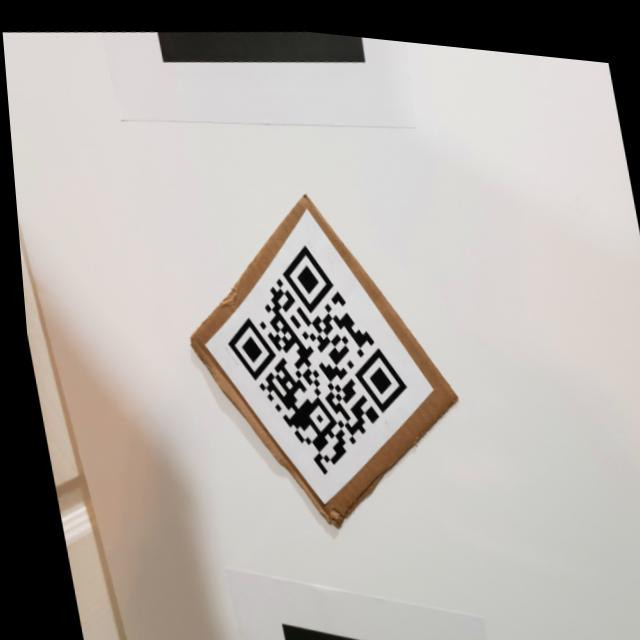QR_CODE: (192, 213, 428, 496)
